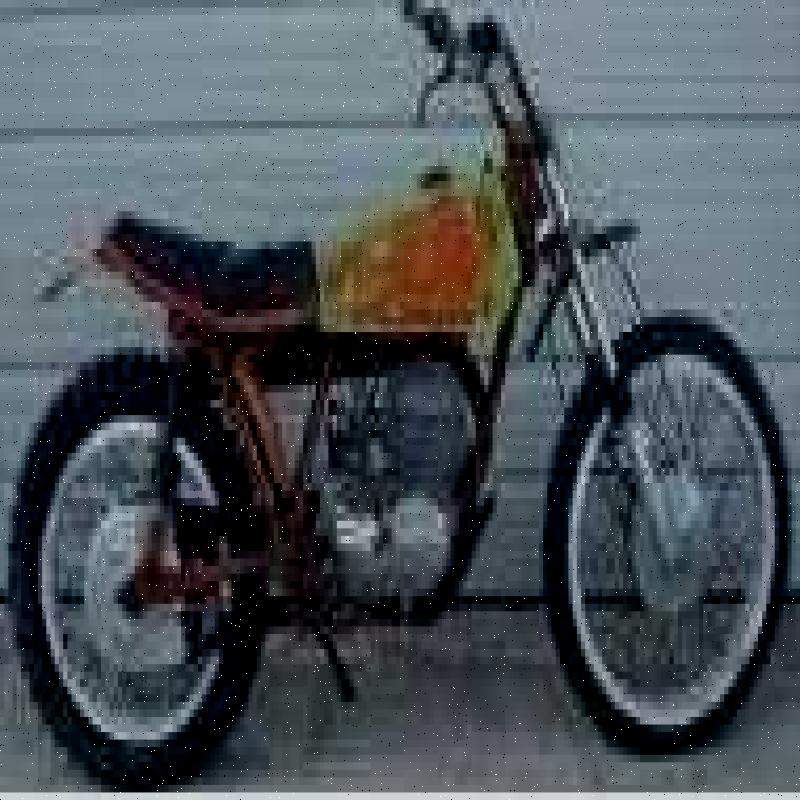bike: (25, 0, 779, 755)
